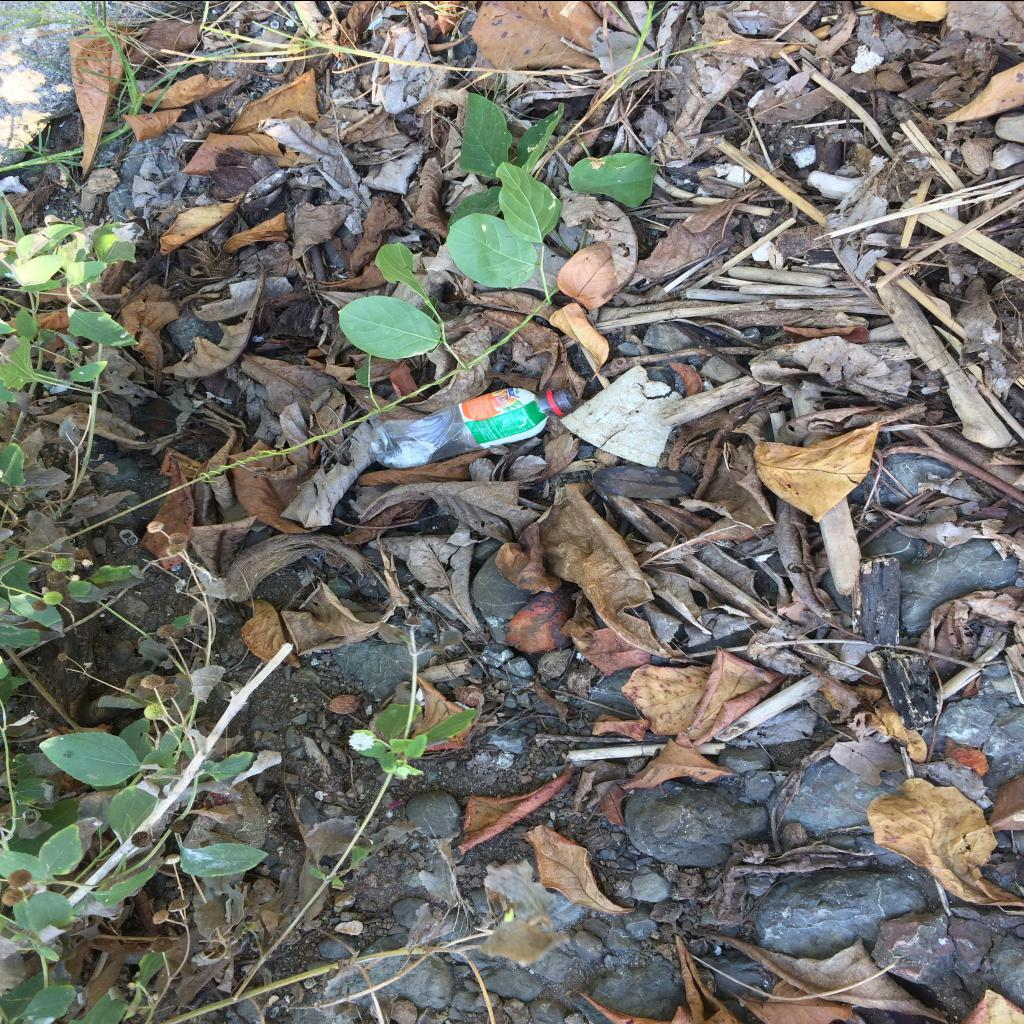Clear plastic bottle: (370, 386, 575, 468)
Styrofoam piece: (560, 364, 682, 466), (852, 44, 884, 72), (790, 144, 816, 167), (748, 88, 764, 106)
